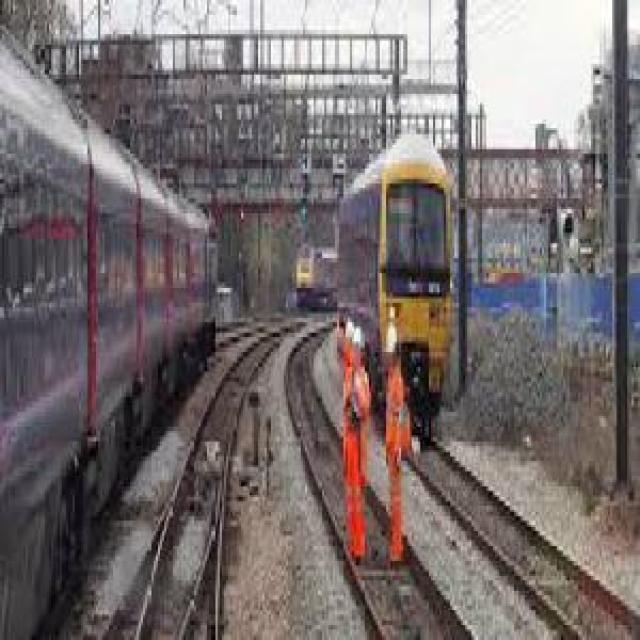rail: (100, 317, 316, 640), (283, 315, 492, 640), (396, 431, 640, 640)
